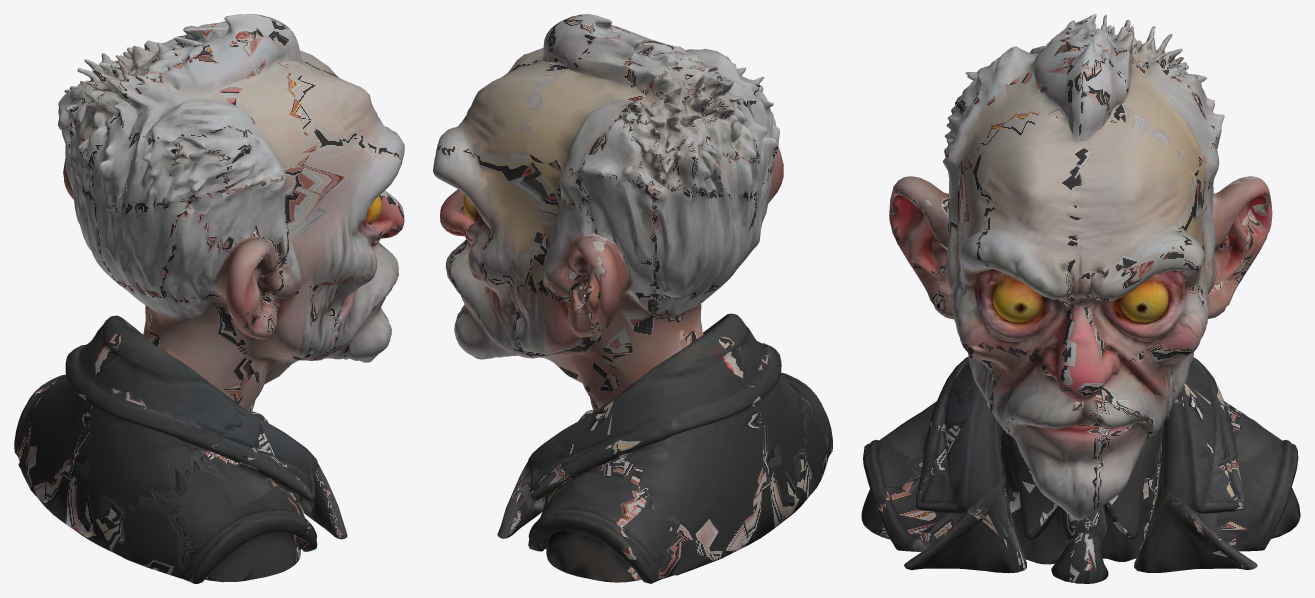
File: jaundice-symtomp.glb
The picture shows the model from 3 angles, left to right: view 1: azimuth 30°, elevation 25°; view 2: azimuth 150°, elevation 25°; view 3: azimuth 270°, elevation 25°; orthographic projection. The views are drawn at different scales.
Parts seen in each view (by area): view 1: JaundiceSymtomp; view 2: JaundiceSymtomp; view 3: JaundiceSymtomp.
Boxes of the visible parts, x1=… form: JaundiceSymtomp: x1=14, y1=14, x2=404, y2=583; JaundiceSymtomp: x1=433, y1=14, x2=832, y2=583; JaundiceSymtomp: x1=861, y1=14, x2=1300, y2=583.
Size of the model in its own units: 0.7438 by 0.9996 by 0.782.
1 material, 1 textured.
